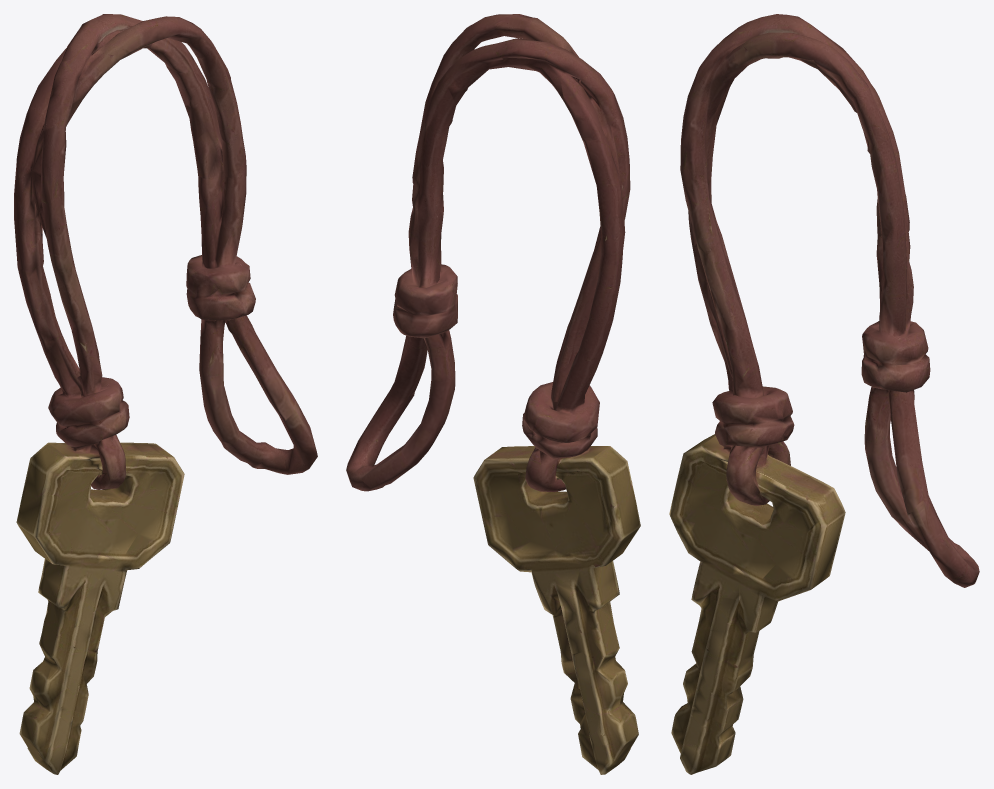
File: housekey.glb
3 renders of one model, left to right at view 1: azimuth 30°, elevation 25°; view 2: azimuth 150°, elevation 25°; view 3: azimuth 330°, elevation 25°, orthographic. The views are drawn at different scales.
Size of the model in its own units: 0.7757 by 1.9 by 0.2144.
Materials: 1 (1 with a texture image).
